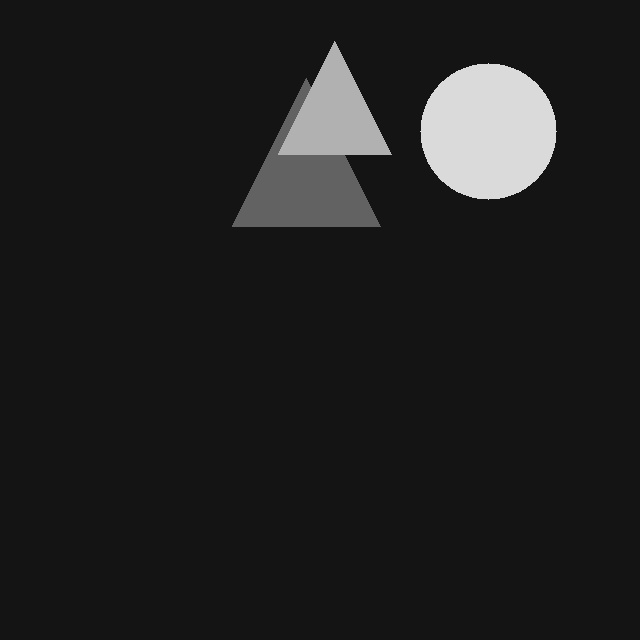circle: (420, 63, 556, 199)
triangle: (232, 78, 380, 226), (278, 41, 391, 154)
